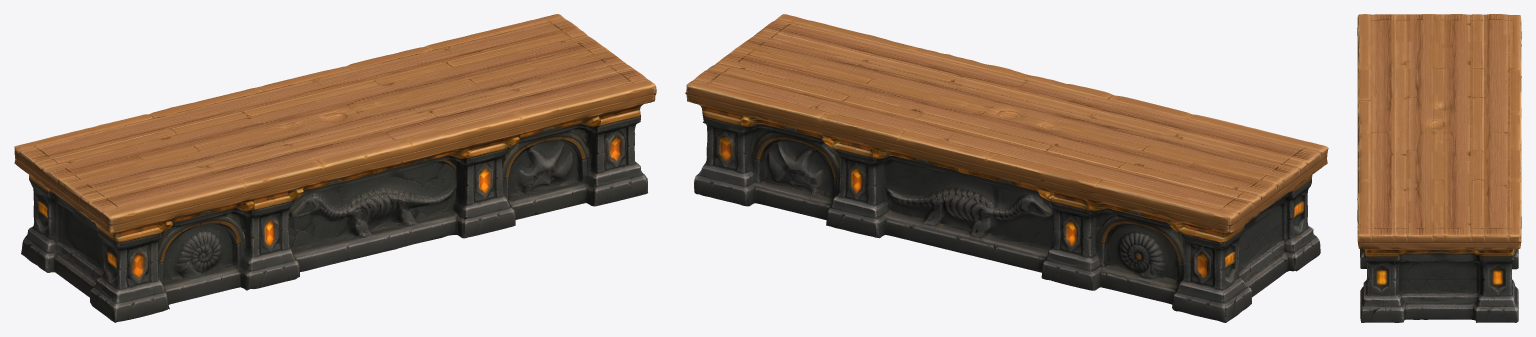
Rendered from counter.glb.
3 views of the same model, side by side, from view 1: azimuth 30°, elevation 25°; view 2: azimuth 150°, elevation 25°; view 3: azimuth 270°, elevation 25° (orthographic). The views are drawn at different scales.
Parts seen in each view (by area): view 1: Mesh0; view 2: Mesh0; view 3: Mesh0.
Part boxes in pixels (x1,y1,x2,y2): Mesh0: [14, 14, 656, 322]; Mesh0: [685, 14, 1328, 322]; Mesh0: [1357, 14, 1521, 322].
Bounding box in the file's own units: 1.9 × 0.3629 × 0.5925.
1 material, 1 textured.
